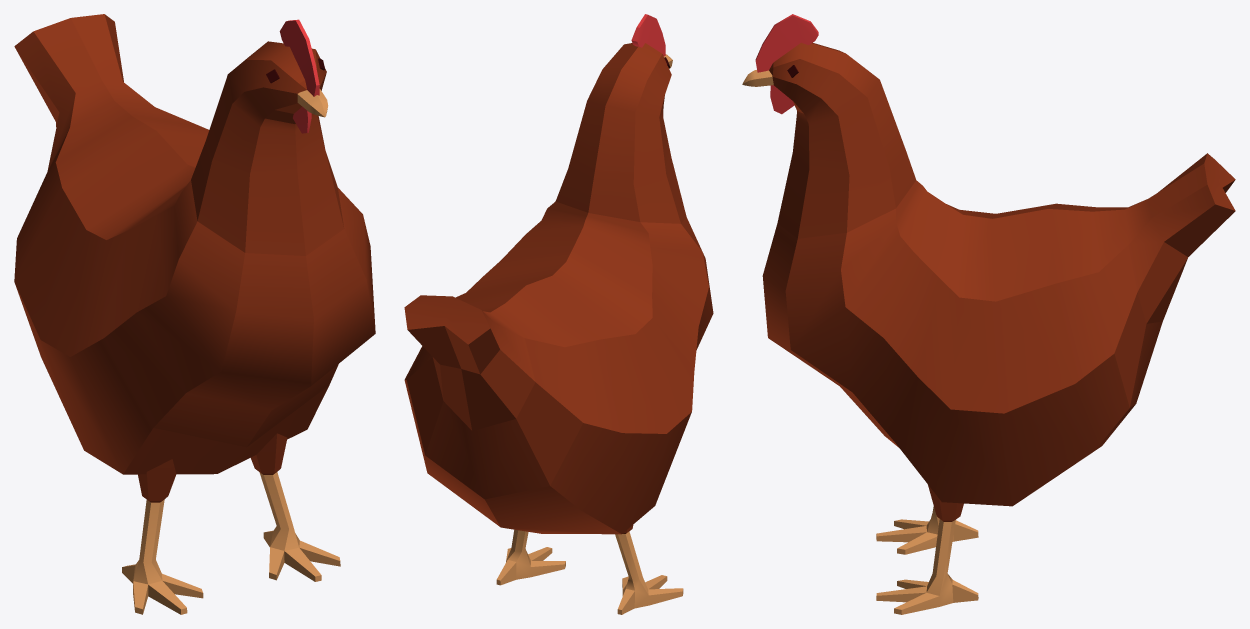
File: hen.glb
The picture shows the model from 3 angles, left to right: view 1: azimuth 30°, elevation 25°; view 2: azimuth 150°, elevation 25°; view 3: azimuth 270°, elevation 25°; orthographic projection. The views are drawn at different scales.
Visible parts, largest first — view 1: Geo_Hen; view 2: Geo_Hen; view 3: Geo_Hen.
Part boxes in pixels (box(x1,y1,x2,y2)): Geo_Hen: box(14, 14, 375, 614); Geo_Hen: box(404, 14, 713, 614); Geo_Hen: box(742, 14, 1235, 614).
Bounding box in the file's own units: 0.2014 × 0.42 × 0.3384.
Materials: 1 (1 with a texture image).
